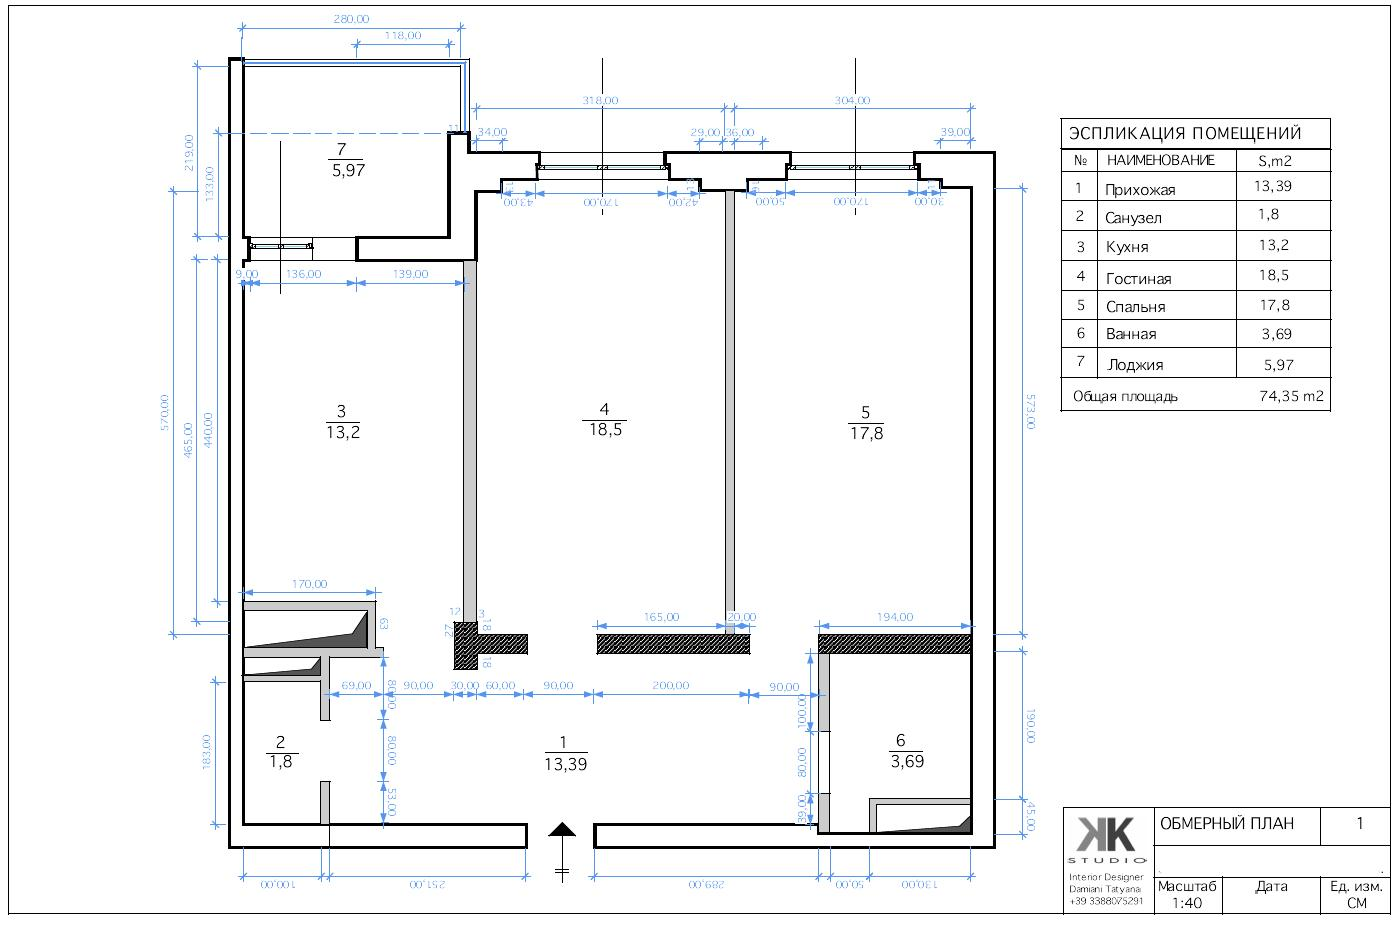bathroom: (830, 653, 972, 832), (243, 682, 321, 827)
bedroom: (733, 180, 970, 636)
hallway: (330, 652, 819, 824)
kitchen: (243, 261, 464, 622)
living_room: (477, 179, 724, 634)
terrace: (240, 66, 460, 240)
